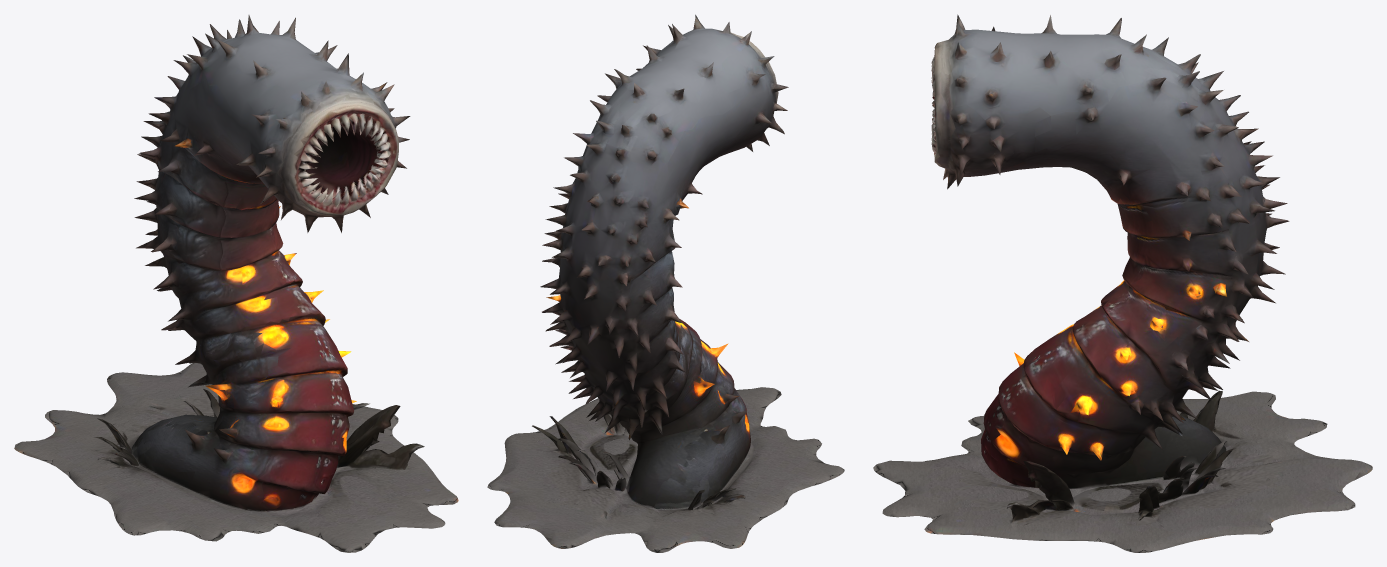
Rendered from boss_leviathan.glb.
The picture shows the model from 3 angles, left to right: view 1: azimuth 30°, elevation 25°; view 2: azimuth 150°, elevation 25°; view 3: azimuth 270°, elevation 25°; orthographic projection. The views are drawn at different scales.
Parts seen in each view (by area): view 1: boss_leviathan; view 2: boss_leviathan; view 3: boss_leviathan.
Part boxes in pixels (<box>): boss_leviathan: <box>14,15,458,552</box>; boss_leviathan: <box>487,14,844,552</box>; boss_leviathan: <box>873,14,1372,552</box>.
Bounding box in the file's own units: 0.763 × 1 × 0.9975.
Materials: 1 (1 with a texture image).
